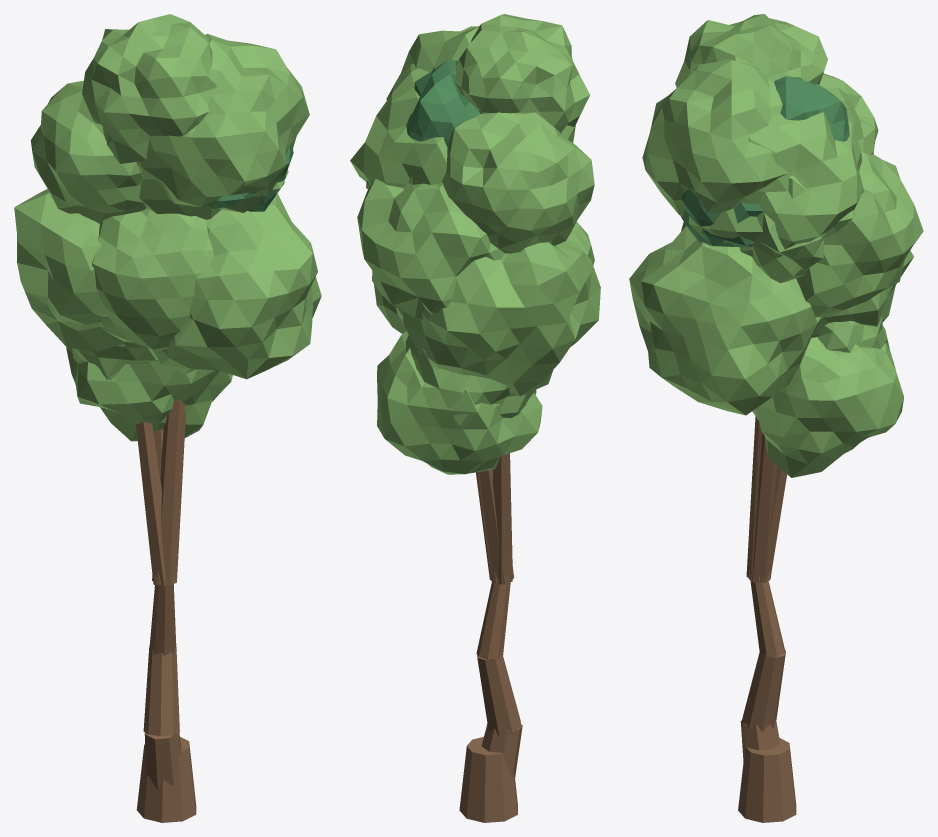
File: tree-tall.glb
3 views of the same model, side by side, from view 1: azimuth 30°, elevation 25°; view 2: azimuth 150°, elevation 25°; view 3: azimuth 270°, elevation 25° (orthographic).
Visible parts, largest first — view 1: tree-tall; view 2: tree-tall; view 3: tree-tall.
Part boxes in pixels (x1,y1,x2,y2): tree-tall: [14, 14, 321, 822]; tree-tall: [350, 14, 600, 822]; tree-tall: [629, 14, 923, 822].
Bounding box in the file's own units: 1.4 × 4.25 × 1.45.
